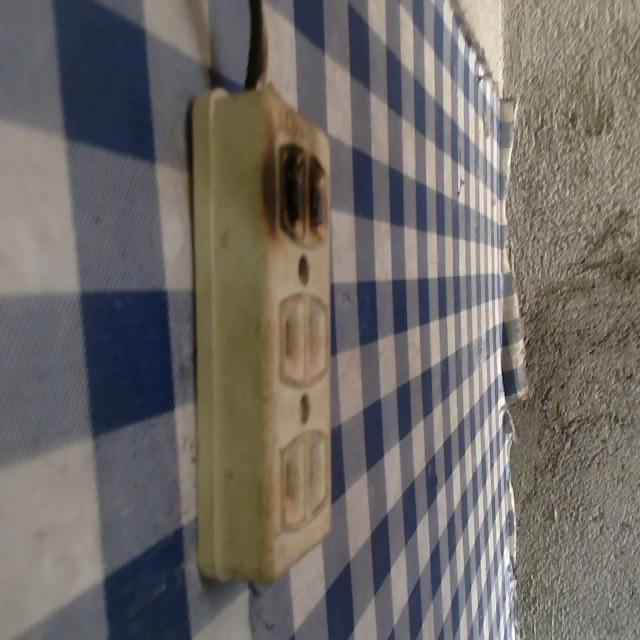-: (269, 132, 336, 241)
